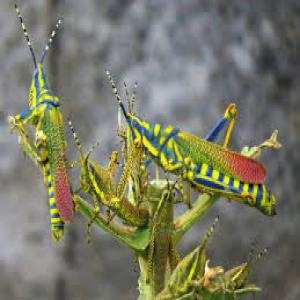locust: (117, 80, 300, 217)
